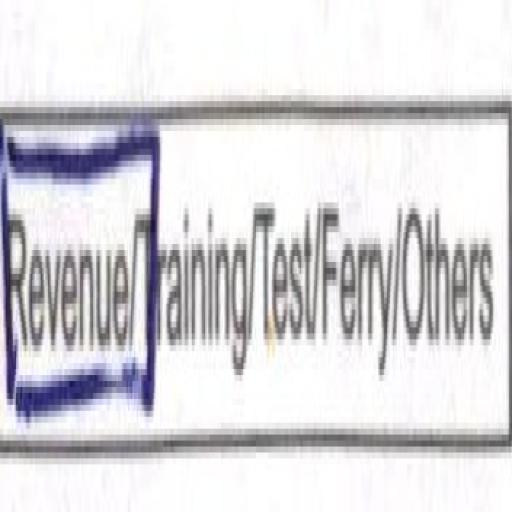check: (0, 78, 138, 490)
